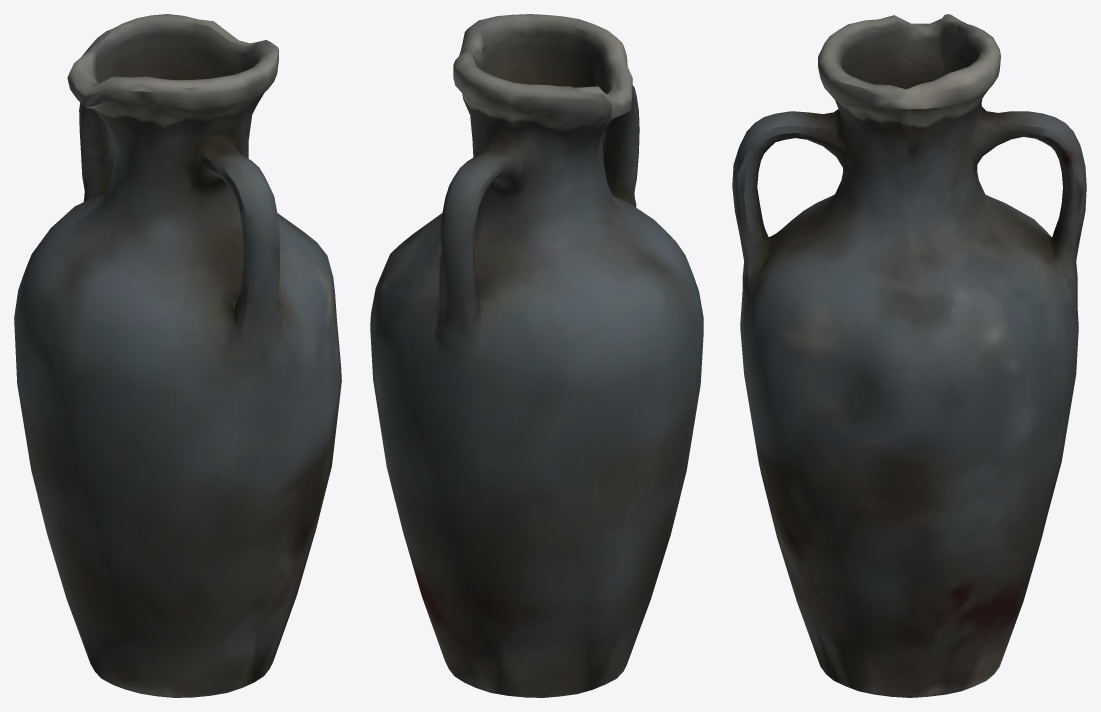
File: amphora.glb
3 views of the same model, side by side, from view 1: azimuth 30°, elevation 25°; view 2: azimuth 150°, elevation 25°; view 3: azimuth 270°, elevation 25° (orthographic).
Parts seen in each view (by area): view 1: model; view 2: model; view 3: model.
Part boxes in pixels (x1=…): model: x1=14, y1=14, x2=341, y2=697; model: x1=370, y1=14, x2=703, y2=697; model: x1=732, y1=14, x2=1086, y2=697.
Size of the model in its own units: 0.5029 by 1 by 0.5264.
1 material, 1 textured.
